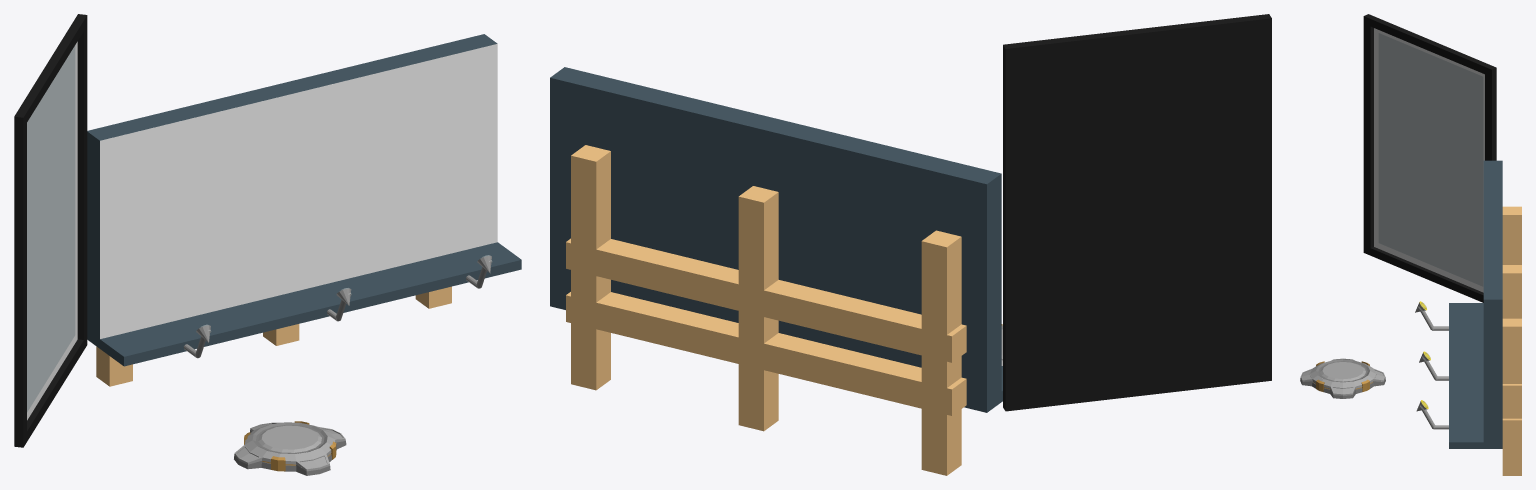
File: billboardSet.glb
3 views of the same model, side by side, from view 1: azimuth 30°, elevation 25°; view 2: azimuth 150°, elevation 25°; view 3: azimuth 270°, elevation 25° (orthographic). The views are drawn at different scales.
Parts seen in each view (by area): view 1: Node.001, Node, Props_Base; view 2: Node.001, Node; view 3: Node, Node.001, Props_Base.
Boxes of the visible parts, bbox=[...] form: Node.001: bbox=[87, 34, 521, 386]; Node: bbox=[14, 14, 87, 447]; Props_Base: bbox=[234, 421, 346, 475]; Node.001: bbox=[550, 67, 1002, 475]; Node: bbox=[1003, 14, 1271, 411]; Node: bbox=[1363, 14, 1496, 302]; Node.001: bbox=[1415, 160, 1521, 475]; Props_Base: bbox=[1300, 358, 1385, 398].
Size of the model in its own units: 1.22 by 0.7963 by 0.5787.
